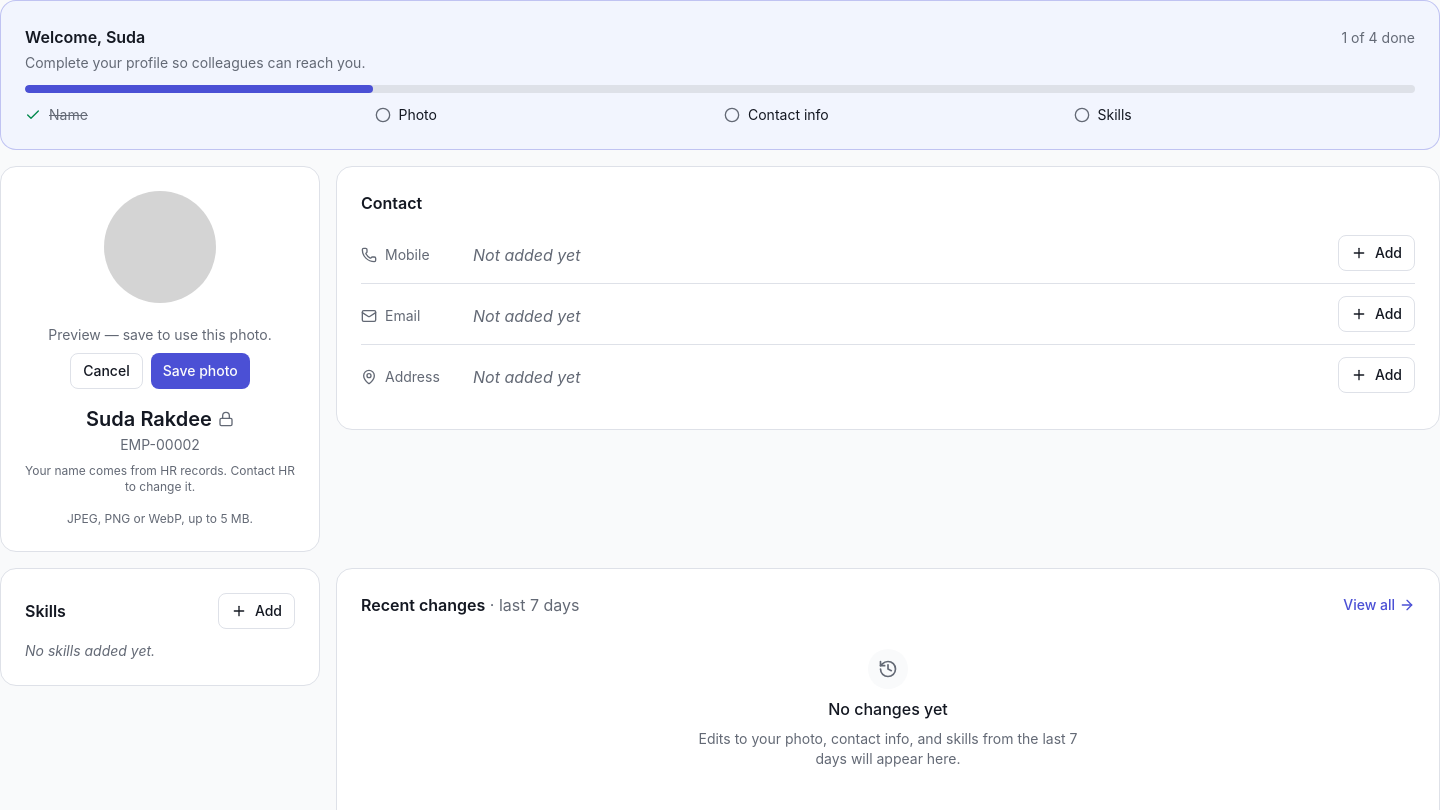
Scenario: checklist › a chosen photo is only previewed; it uploads after "Save photo" and Cancel discards it
Earlier steps of the test are not shown.
Later steps or results of the test are not shown.
Expected: the button "Save photo" is shown, [151,353,250,389]
Click the button "Cancel": (106, 371) [70,353,143,389]
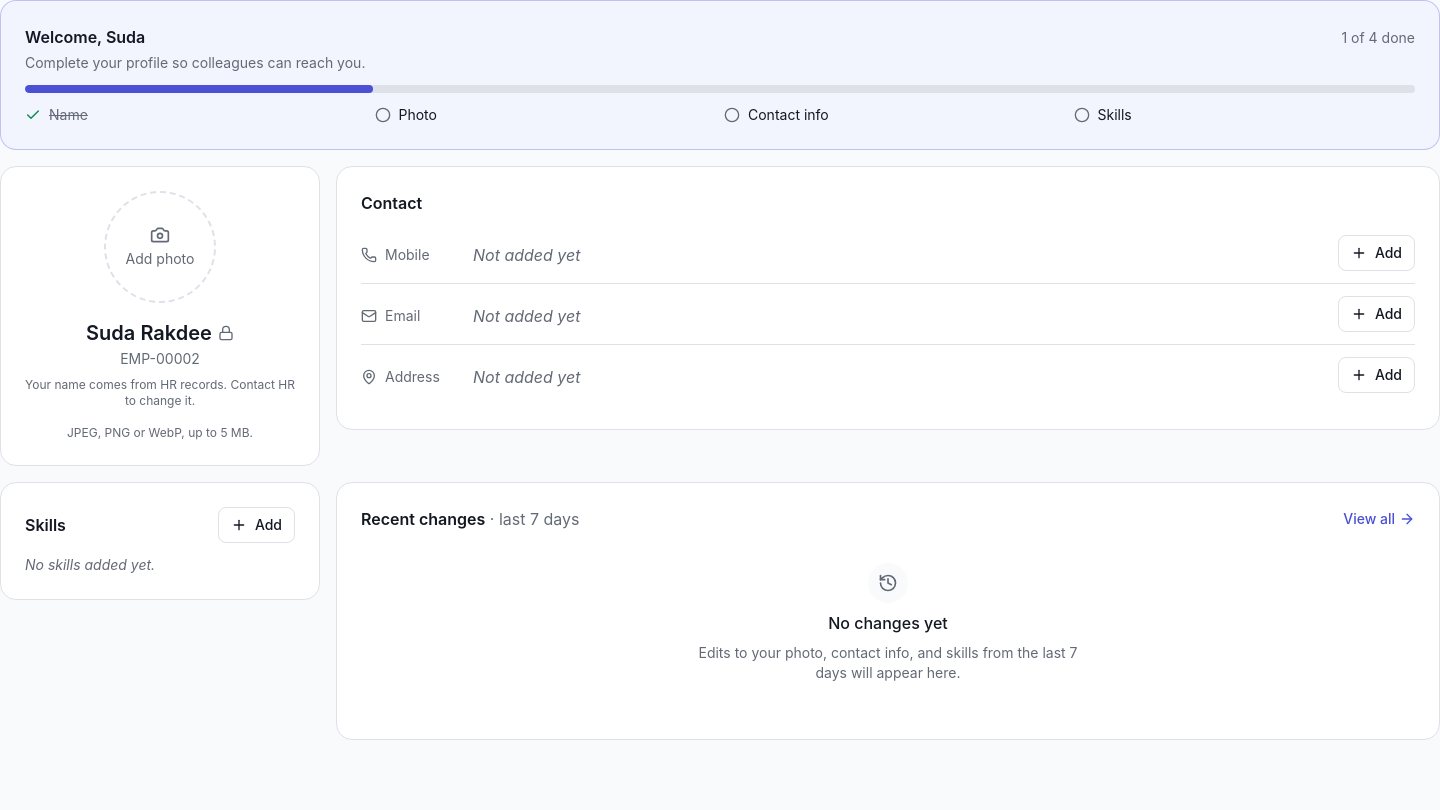
Expected: the button "Save photo" is gone
